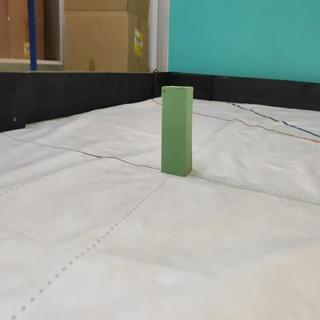greenbox: (161, 85, 194, 176)
